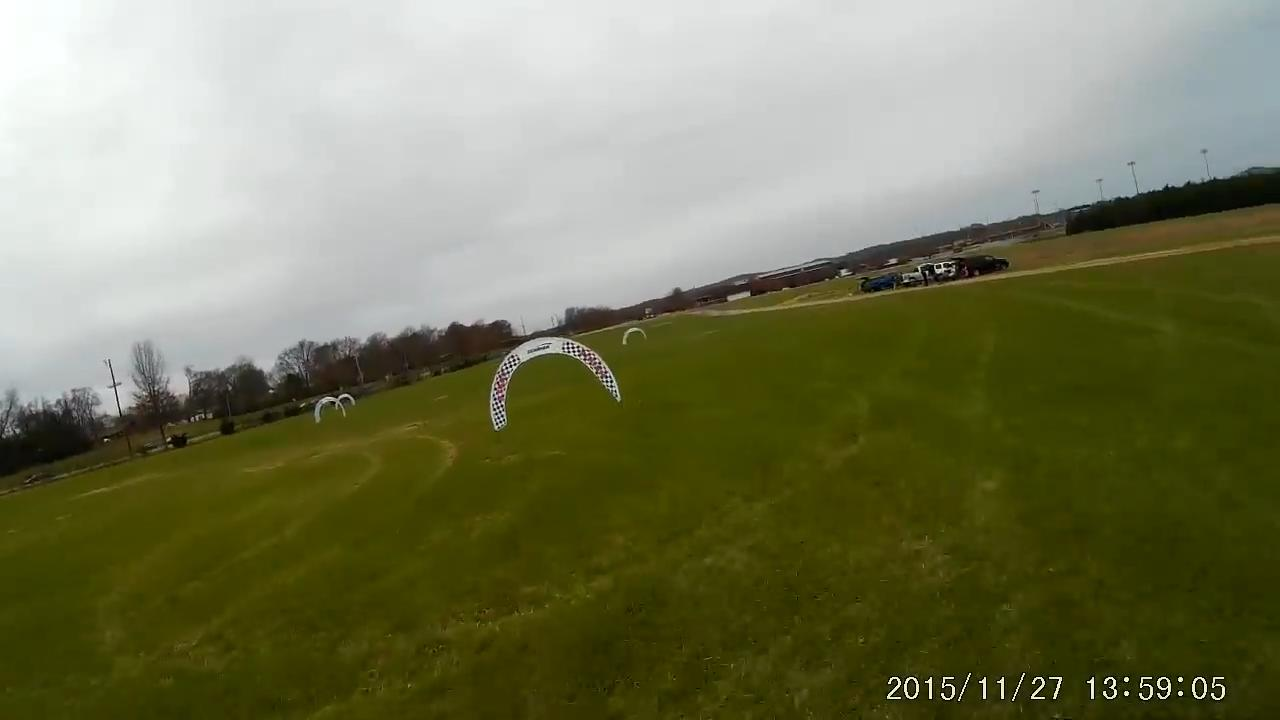gate: (488, 336, 619, 434)
